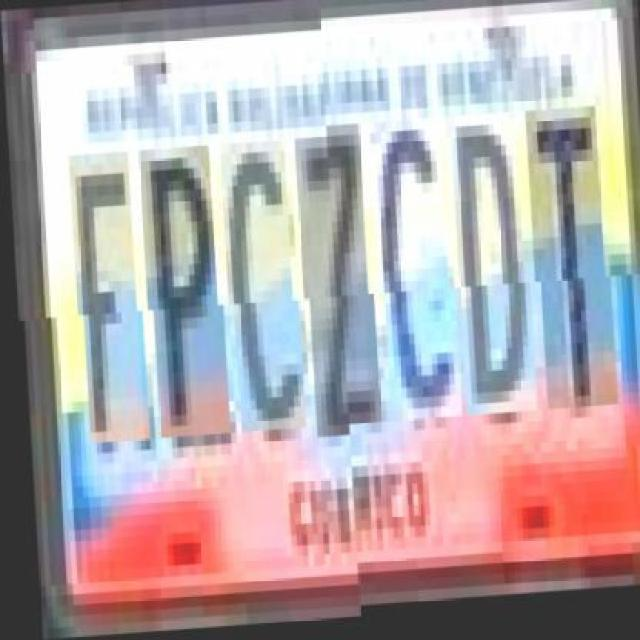c: (373, 134, 458, 438), (222, 143, 301, 435)
d: (449, 131, 533, 434)
f: (71, 153, 144, 444)
p: (142, 148, 225, 440)
t: (529, 125, 613, 428)
z: (298, 140, 376, 442)
